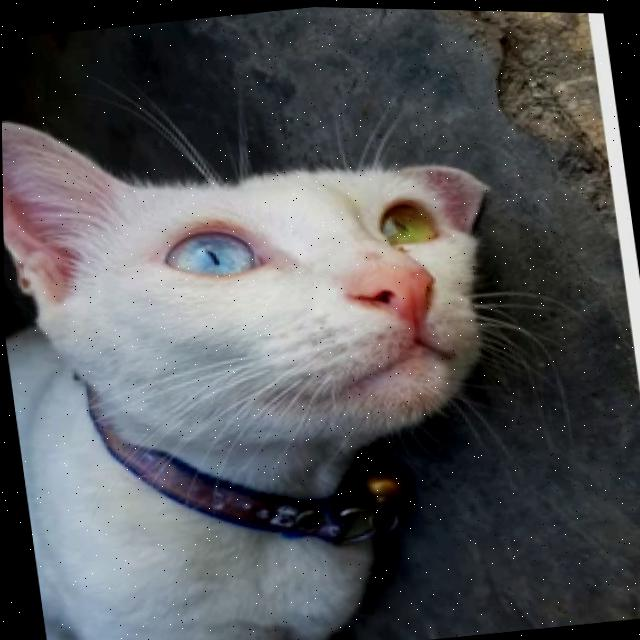Khao Manee: (1, 56, 557, 640)
